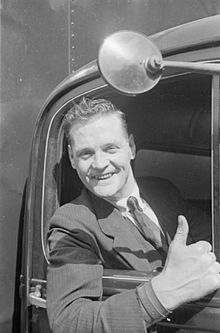thumbsUp: (145, 208, 220, 319)
